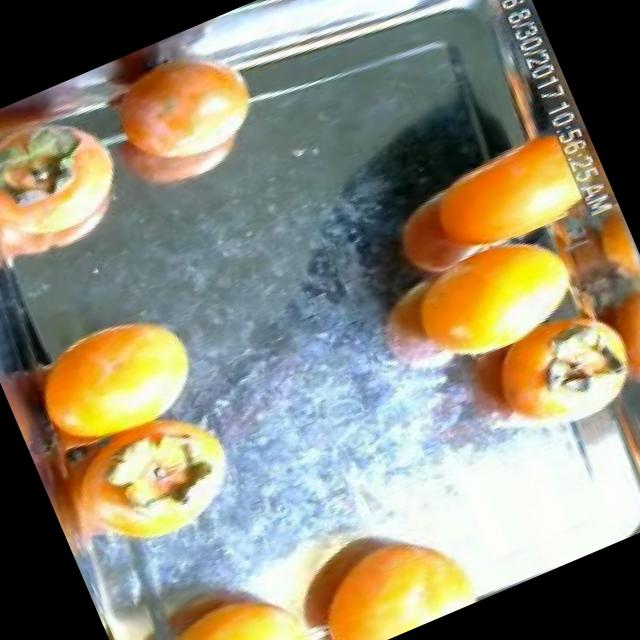Fruit: (65, 9, 296, 228), (4, 282, 228, 479)
